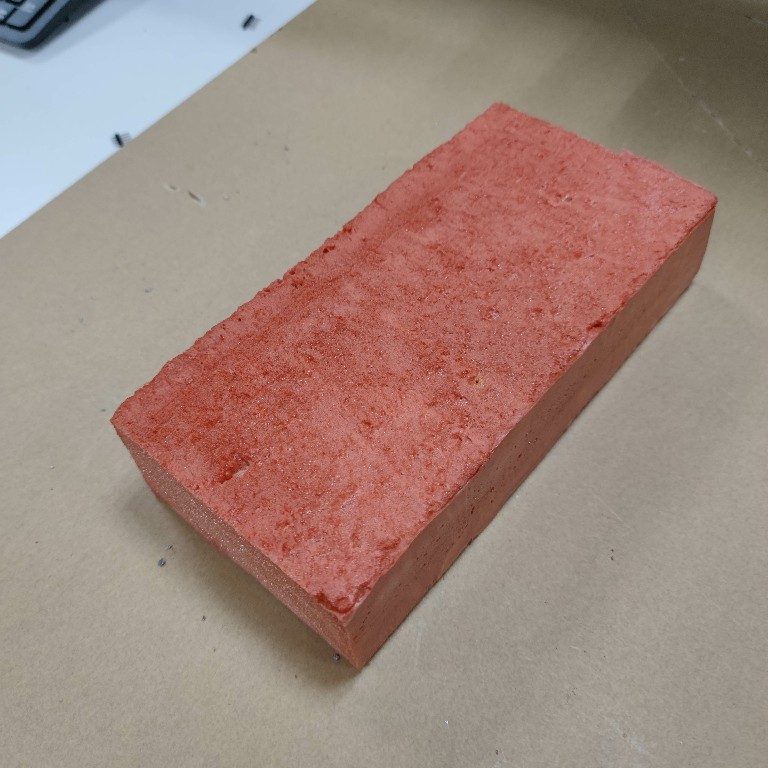brick: (107, 95, 723, 676)
